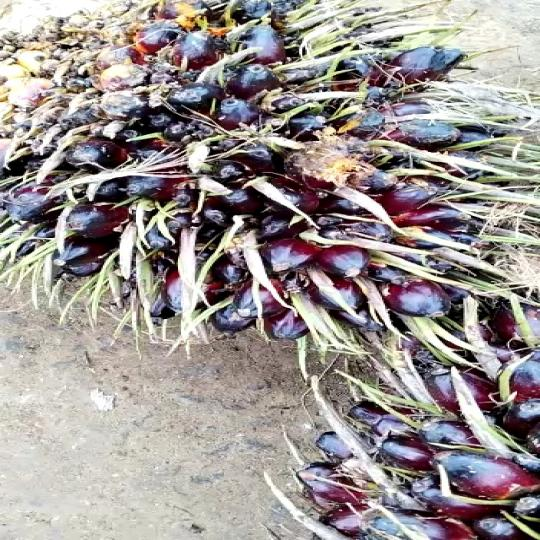mentah: (14, 0, 498, 345), (280, 354, 540, 536)
